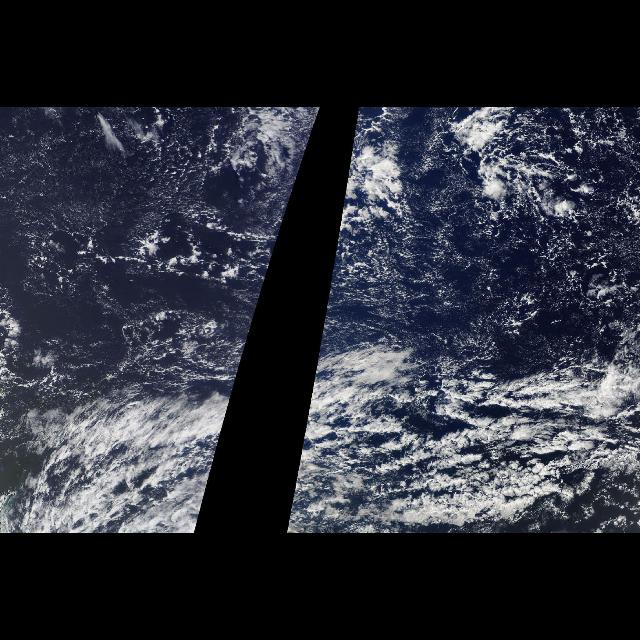Gravel: (433, 111, 635, 317)
Sugar: (0, 107, 214, 281), (338, 264, 558, 344)
